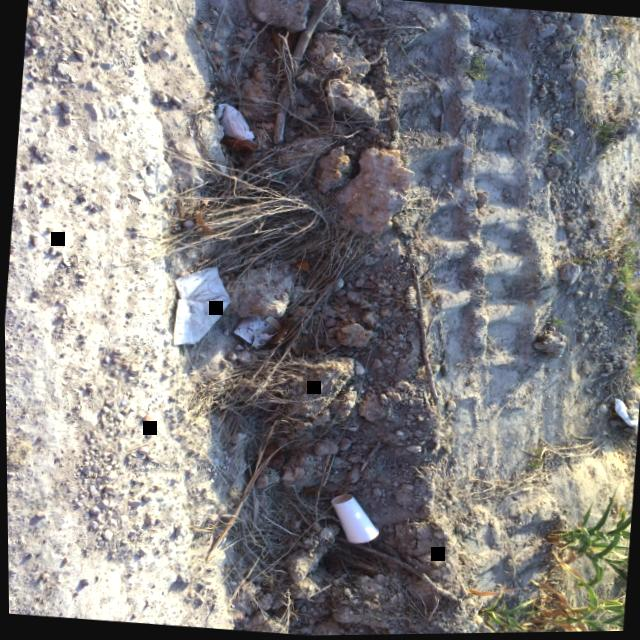Cigarette: (177, 272, 188, 277)
Other carton: (230, 316, 280, 349)
Other plastic: (171, 268, 227, 346)
Other plastic container: (610, 400, 637, 431)
Paper cup: (328, 495, 376, 543)
Unlabeled litter: (213, 104, 252, 141), (631, 272, 638, 279)
